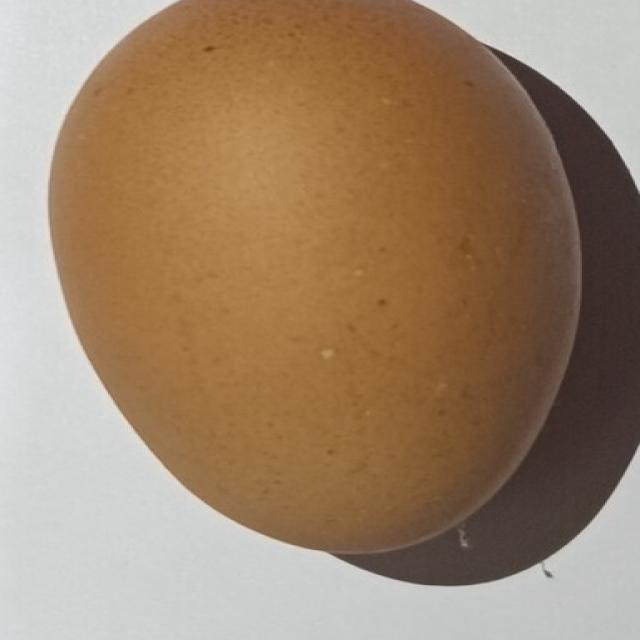unfresh: (50, 0, 585, 555)
